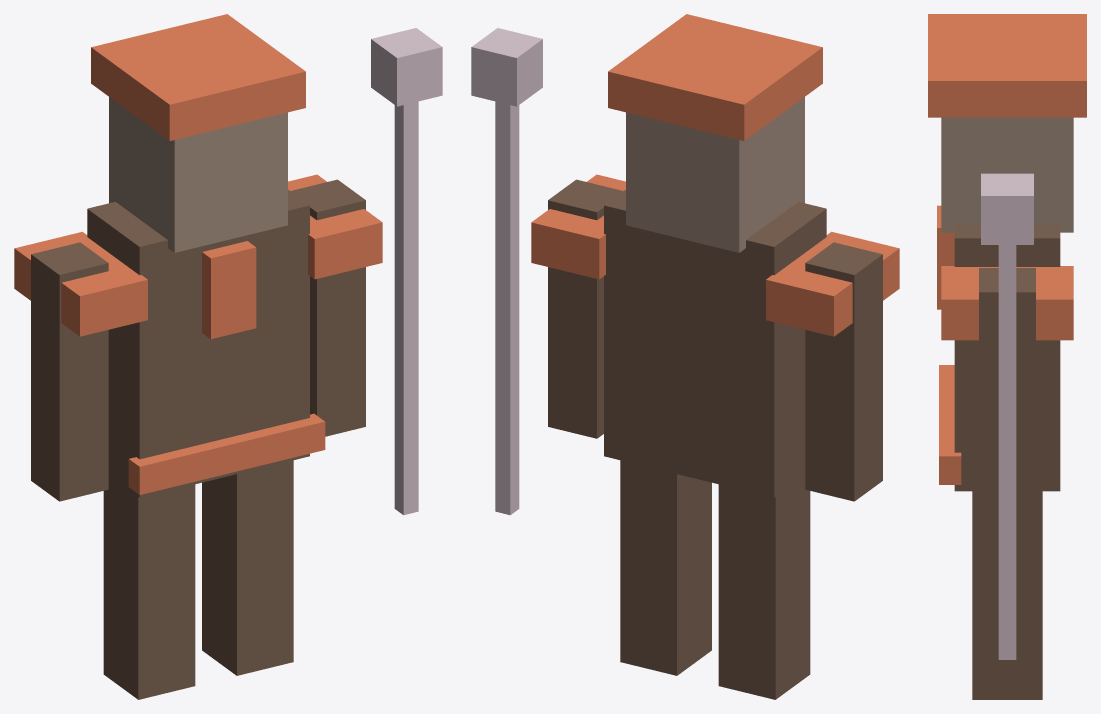
Rendered from 19_sarai_rootborne_archivist_near_compass.glb.
3 views of the same model, side by side, from view 1: azimuth 30°, elevation 25°; view 2: azimuth 150°, elevation 25°; view 3: azimuth 270°, elevation 25° (orthographic).
Parts seen in each view (by area): view 1: Sarai Rootborne, Archivist near Compass; view 2: Sarai Rootborne, Archivist near Compass; view 3: Sarai Rootborne, Archivist near Compass.
Part boxes in pixels (x1,y1,x2,y2): Sarai Rootborne, Archivist near Compass: (14,14,442,699); Sarai Rootborne, Archivist near Compass: (471,14,899,699); Sarai Rootborne, Archivist near Compass: (928,14,1086,699).
Size of the model in its own units: 1.04 by 1.57 by 0.3673.
